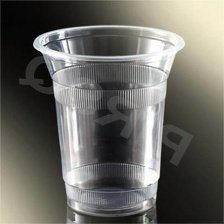glass: (26, 18, 187, 221)
